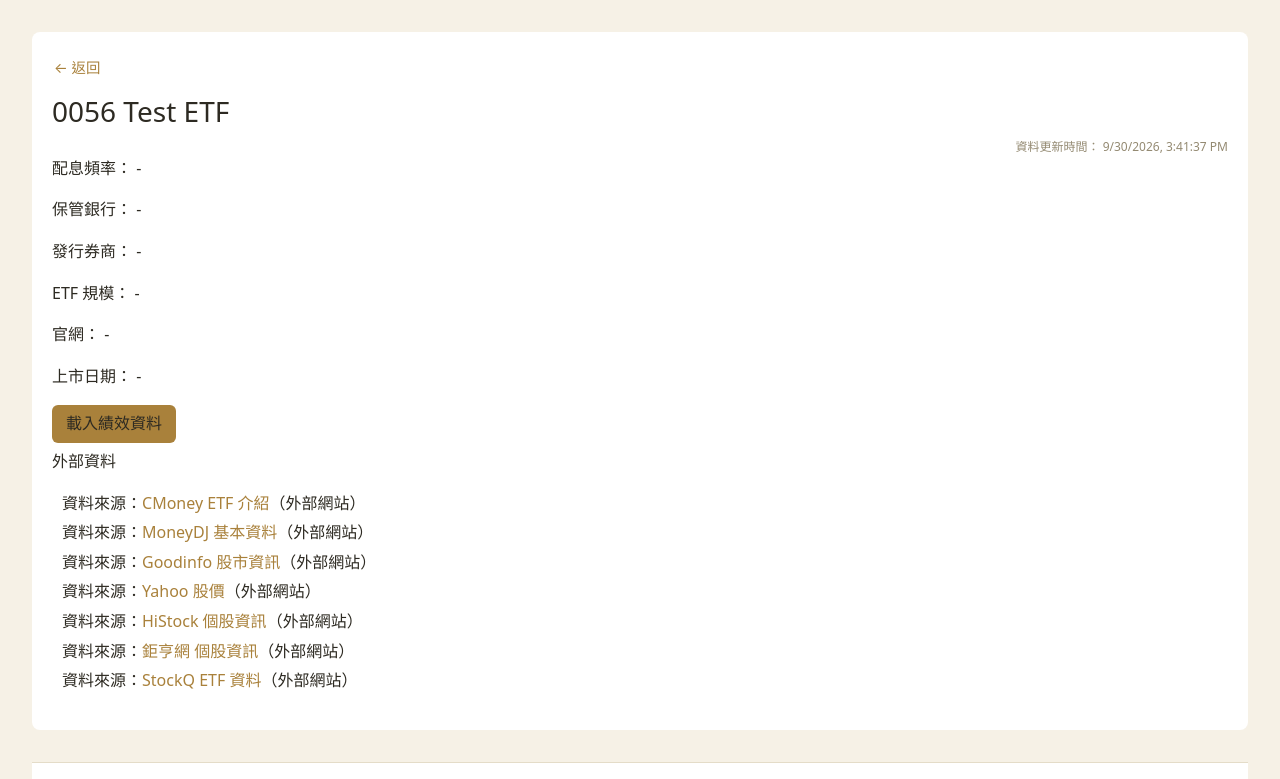
it: renders returns data
Click the button "載入績效資料" at [114, 424], box 52,405 -> 176,443
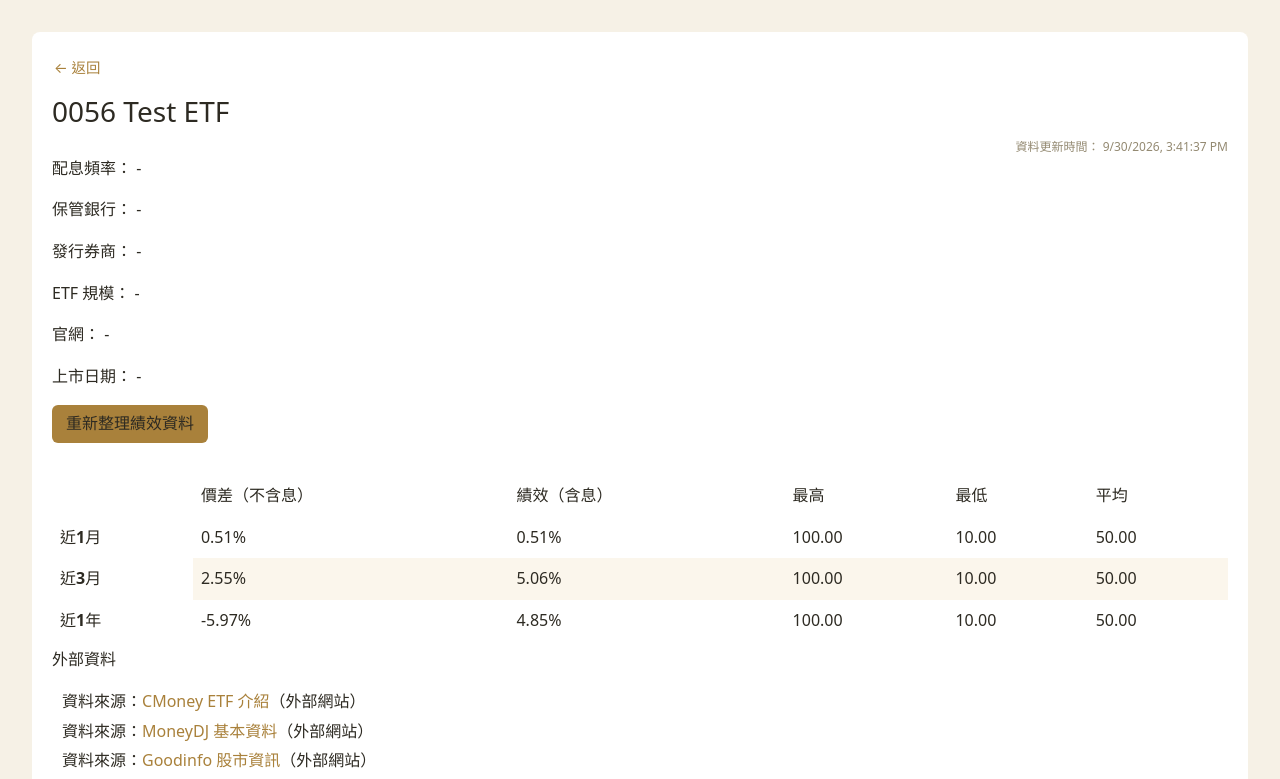
Result: the 1st text "0.51%" is shown at 193,517 -> 508,558
Result: the text "5.06%" is shown at 508,558 -> 785,600
Result: the text "-5.97%" is shown at 193,600 -> 508,641
